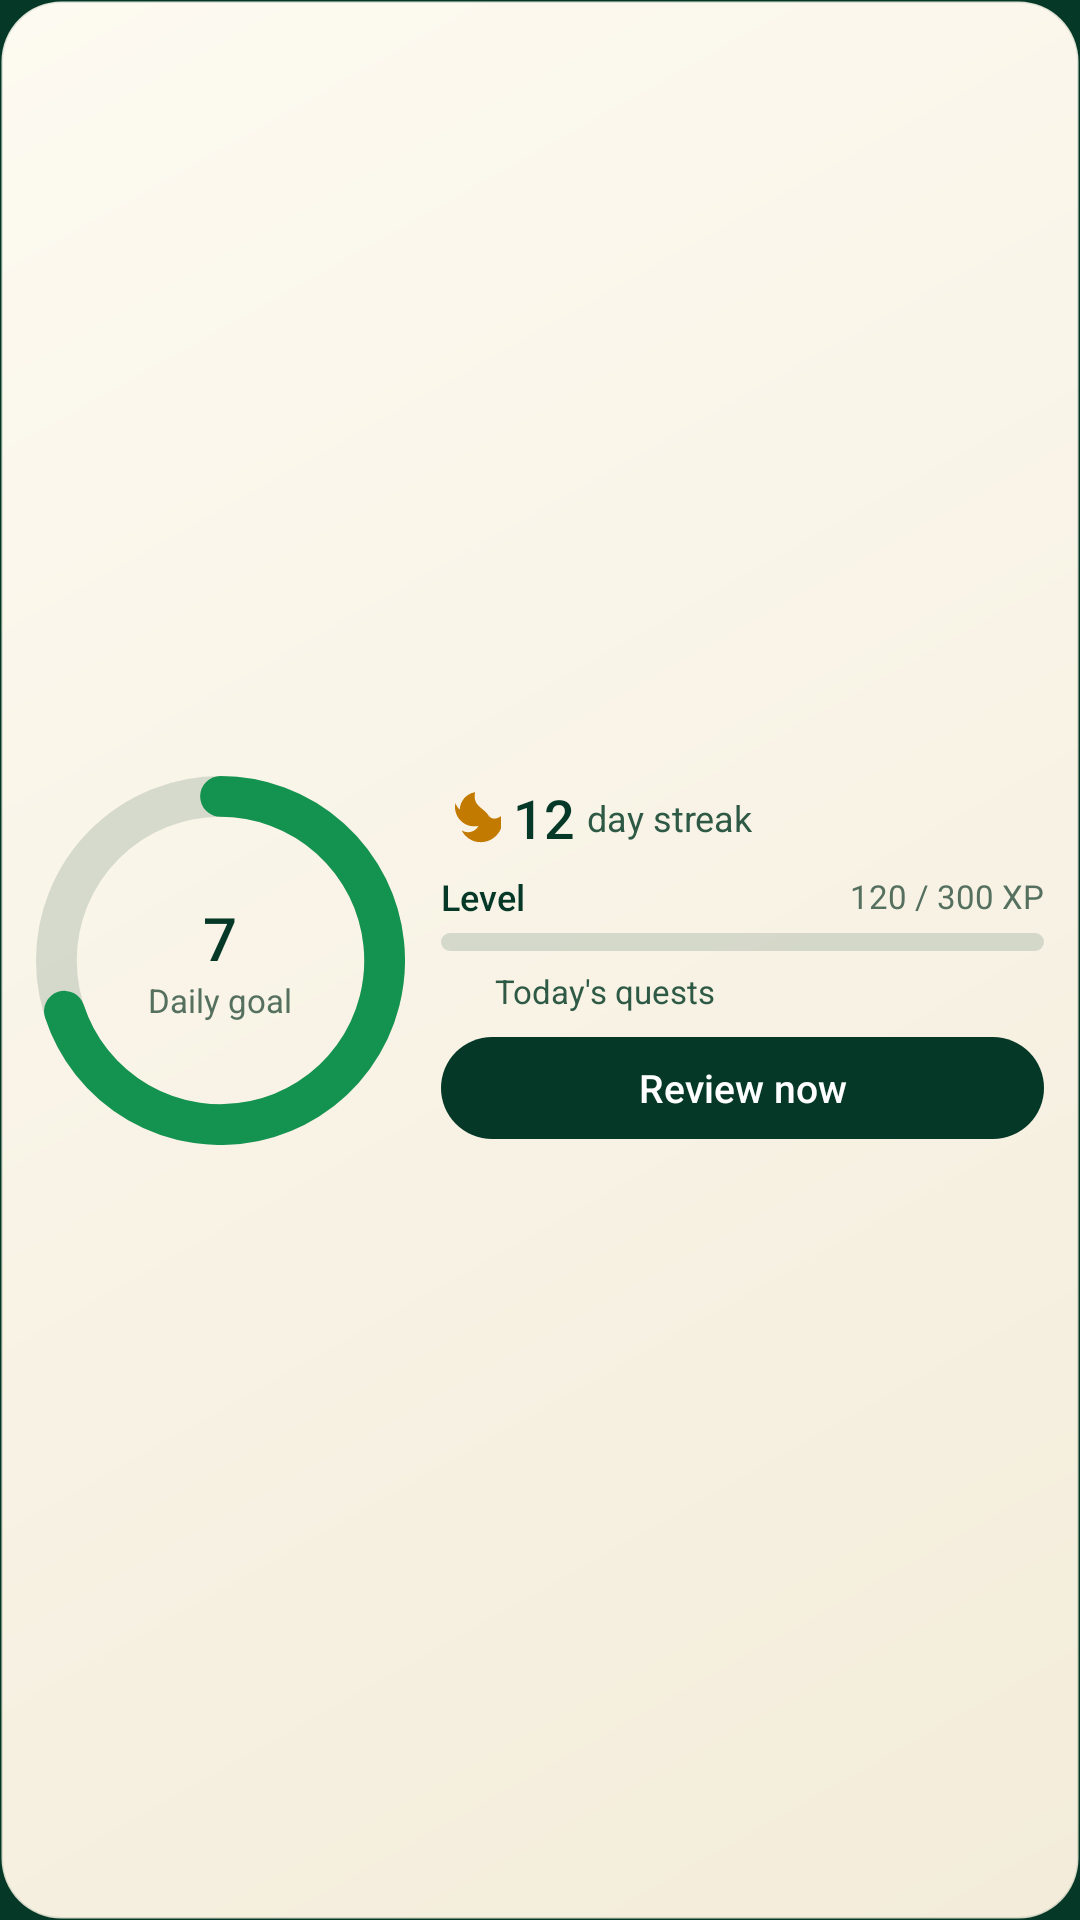

Icons on this 1080*1920 Android screen, each with the point to tap as [x,y]:
widget flame: [478,817]
